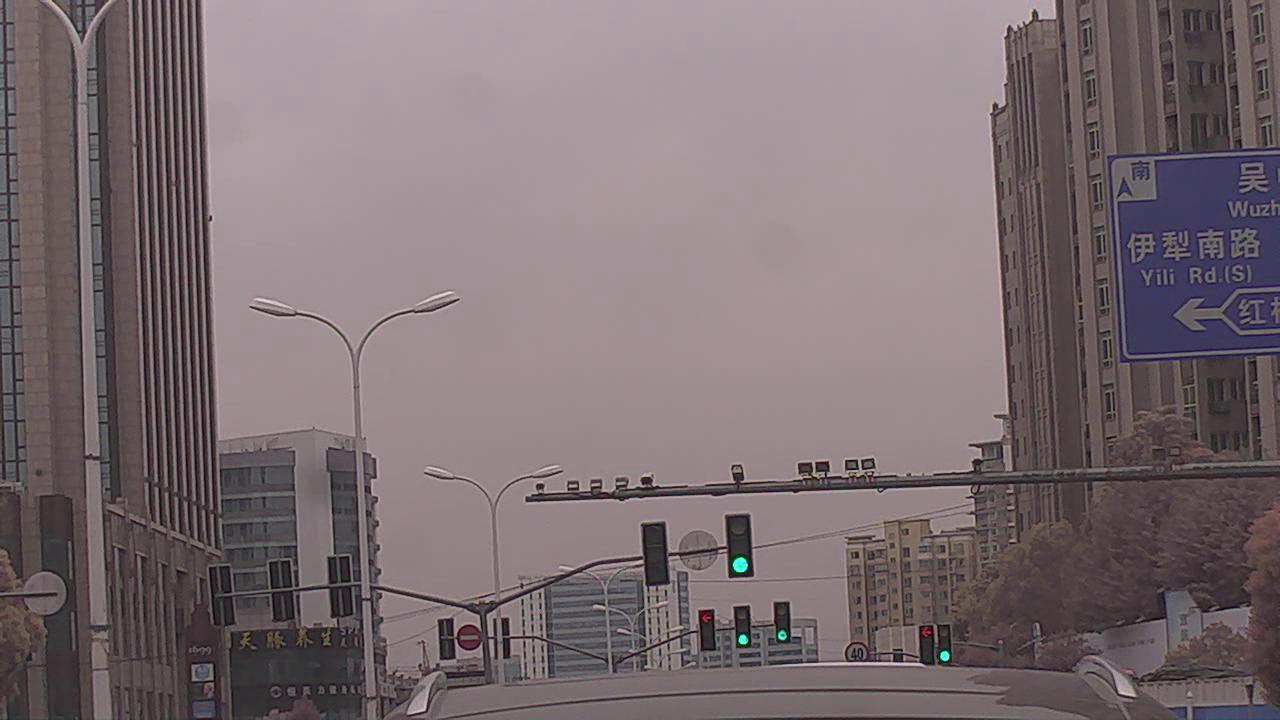traffic_light: (726, 513, 755, 578), (643, 522, 671, 584), (696, 607, 716, 653), (772, 598, 791, 644), (735, 604, 753, 648), (918, 623, 936, 667), (938, 623, 954, 665)
